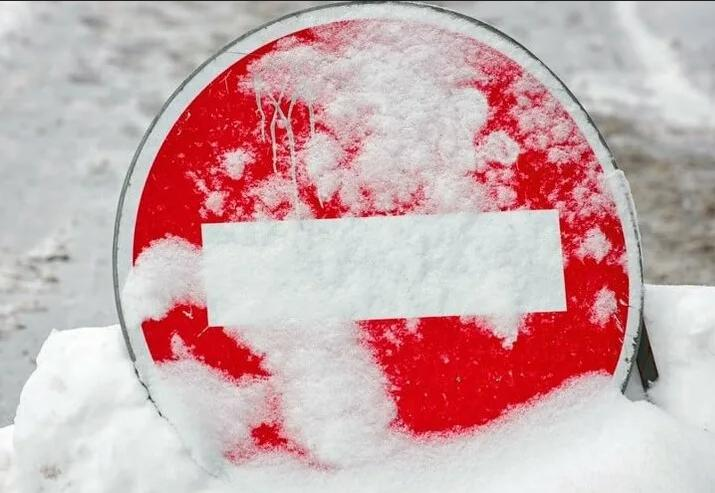obstructed_road_sign: (109, 0, 649, 481)
